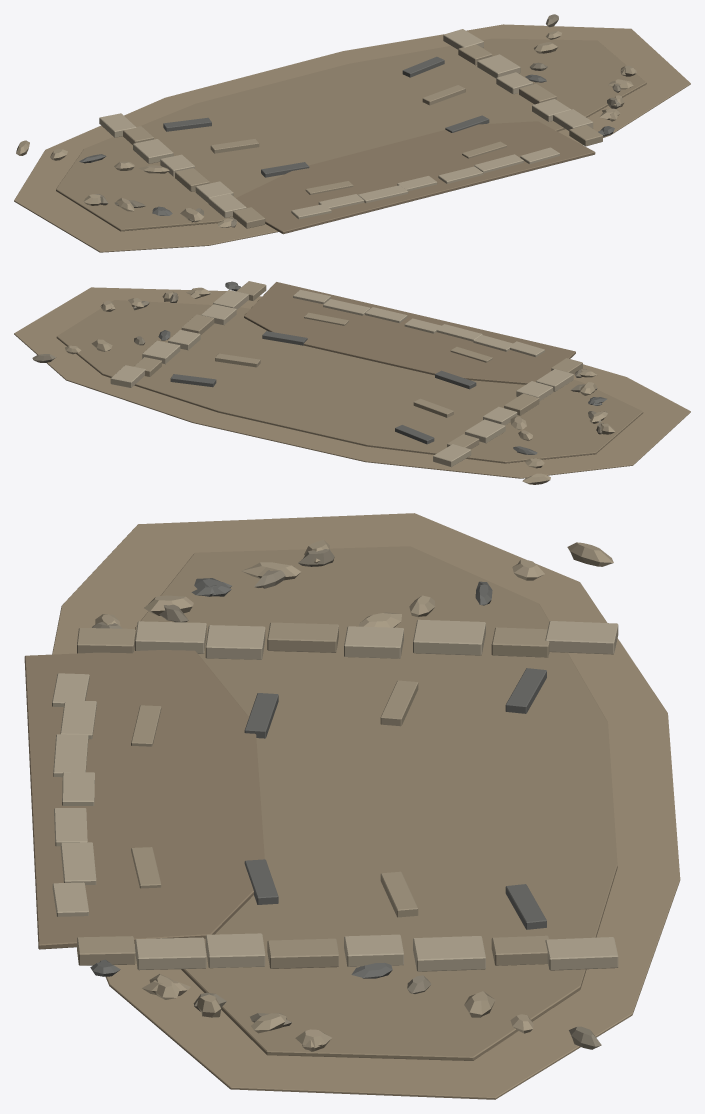
The model's file is palace-base-transition.glb.
The picture shows the model from 3 angles, top to bottom: view 1: azimuth 30°, elevation 25°; view 2: azimuth 150°, elevation 25°; view 3: azimuth 270°, elevation 25°; orthographic projection. The views are drawn at different scales.
Visible parts, largest first — view 1: palace_base_compacted_earth, palace_base_ground_bed, palace_base_gate_tread, palace_base_side_curb_r_5, palace_base_side_curb_l_5, palace_base_side_curb_l_1, palace_base_side_curb_r_1, palace_base_side_curb_l_7, palace_base_side_curb_r_7, palace_base_side_curb_r_2, palace_base_side_curb_l_3, palace_base_side_curb_r_4 (+18 smaller); view 2: palace_base_compacted_earth, palace_base_ground_bed, palace_base_gate_tread, palace_base_side_curb_l_5, palace_base_side_curb_l_7, palace_base_side_curb_r_5, palace_base_side_curb_r_7, palace_base_side_curb_l_1, palace_base_side_curb_l_3, palace_base_side_curb_r_2, palace_base_side_curb_r_1, palace_base_side_curb_l_2 (+17 smaller); view 3: palace_base_compacted_earth, palace_base_ground_bed, palace_base_gate_tread, palace_base_side_curb_l_5, palace_base_side_curb_r_5, palace_base_side_curb_r_7, palace_base_side_curb_r_1, palace_base_side_curb_l_7, palace_base_side_curb_l_1, palace_base_side_curb_r_3, palace_base_side_curb_l_3, palace_base_side_curb_r_2 (+22 smaller).
Boxes of the visible parts, x1,y1,x2,y2 form: palace_base_compacted_earth: [56, 38, 646, 231]; palace_base_ground_bed: [14, 24, 690, 252]; palace_base_gate_tread: [236, 121, 595, 234]; palace_base_side_curb_r_5: [477, 54, 520, 78]; palace_base_side_curb_l_5: [133, 139, 173, 163]; palace_base_side_curb_l_1: [208, 193, 246, 217]; palace_base_side_curb_r_1: [553, 109, 593, 130]; palace_base_side_curb_l_7: [99, 113, 136, 137]; palace_base_side_curb_r_7: [443, 29, 483, 49]; palace_base_side_curb_r_2: [532, 99, 570, 121]; palace_base_side_curb_l_3: [175, 168, 209, 191]; palace_base_side_curb_r_4: [496, 72, 533, 94]; palace_base_compacted_earth: [56, 300, 643, 463]; palace_base_ground_bed: [14, 287, 690, 478]; palace_base_gate_tread: [244, 282, 575, 384]; palace_base_side_curb_l_5: [465, 419, 505, 443]; palace_base_side_curb_l_7: [433, 444, 471, 467]; palace_base_side_curb_r_5: [142, 340, 180, 364]; palace_base_side_curb_r_7: [110, 365, 145, 387]; palace_base_side_curb_l_1: [536, 369, 573, 391]; palace_base_side_curb_l_3: [504, 393, 539, 415]; palace_base_side_curb_r_2: [201, 304, 236, 325]; palace_base_side_curb_r_1: [213, 290, 248, 309]; palace_base_side_curb_l_2: [516, 381, 553, 401]; palace_base_compacted_earth: [134, 546, 617, 1060]; palace_base_ground_bed: [52, 513, 680, 1099]; palace_base_gate_tread: [24, 650, 264, 949]; palace_base_side_curb_l_5: [413, 619, 485, 655]; palace_base_side_curb_r_5: [413, 936, 485, 971]; palace_base_side_curb_r_7: [545, 937, 618, 970]; palace_base_side_curb_r_1: [135, 937, 206, 970]; palace_base_side_curb_l_7: [545, 621, 618, 654]; palace_base_side_curb_l_1: [135, 621, 206, 653]; palace_base_side_curb_r_3: [267, 938, 338, 968]; palace_base_side_curb_l_3: [267, 622, 338, 652]; palace_base_side_curb_r_2: [205, 933, 265, 968].
Bounding box in the file's own units: 17.98 × 0.3184 × 8.52.
